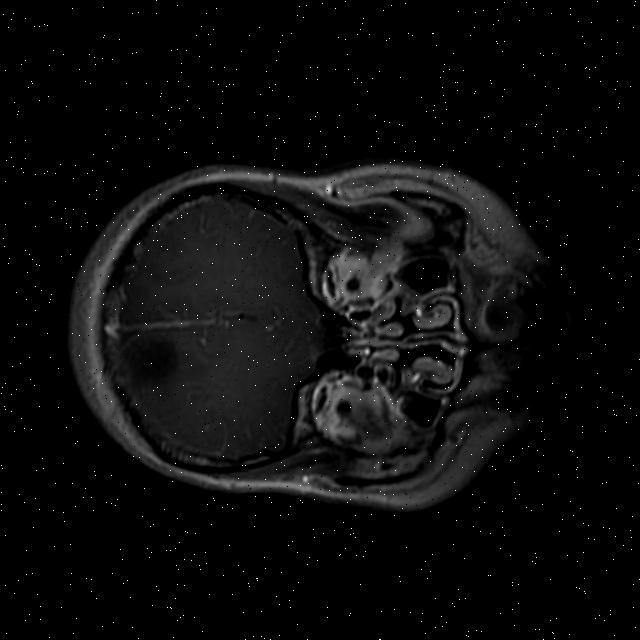Glioma: (112, 327, 184, 396)
